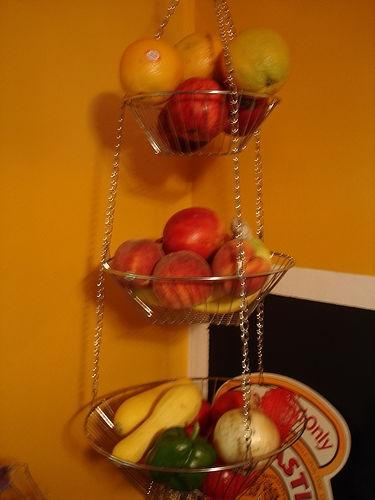apple: (166, 77, 230, 142), (162, 206, 225, 264), (158, 102, 211, 153), (224, 95, 269, 137)
banana: (187, 221, 271, 314), (202, 284, 228, 304)
bell pepper: (146, 421, 216, 492)
onion: (213, 390, 280, 476)
orange: (218, 27, 292, 95), (119, 36, 184, 106), (173, 31, 224, 84)
peach: (150, 251, 214, 310), (211, 239, 273, 298), (162, 207, 228, 260), (112, 239, 166, 276)
